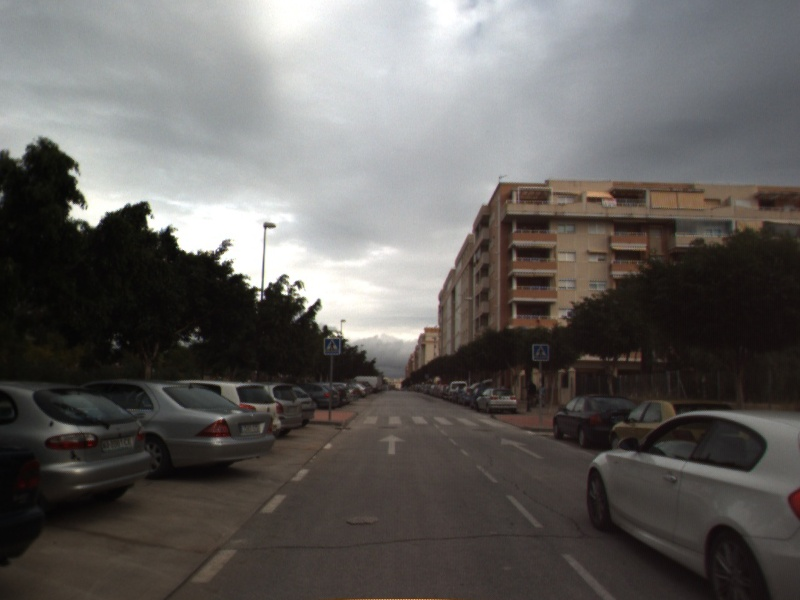STRAIGHT: (499, 436, 546, 460), (377, 432, 408, 456)
